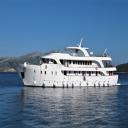cruises: (8, 36, 122, 90)
